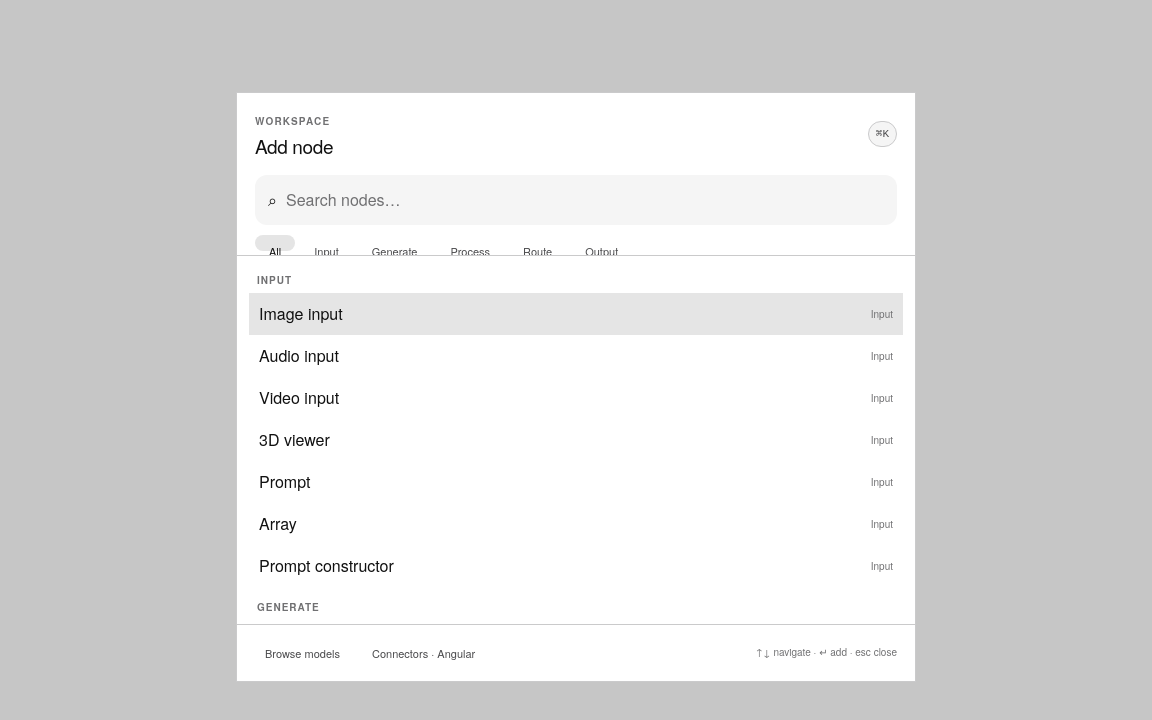
it: AddPalette › filters by category and shows an empty state
Step 1. Click the button "Route" → (538,242), box [509,234,566,250]
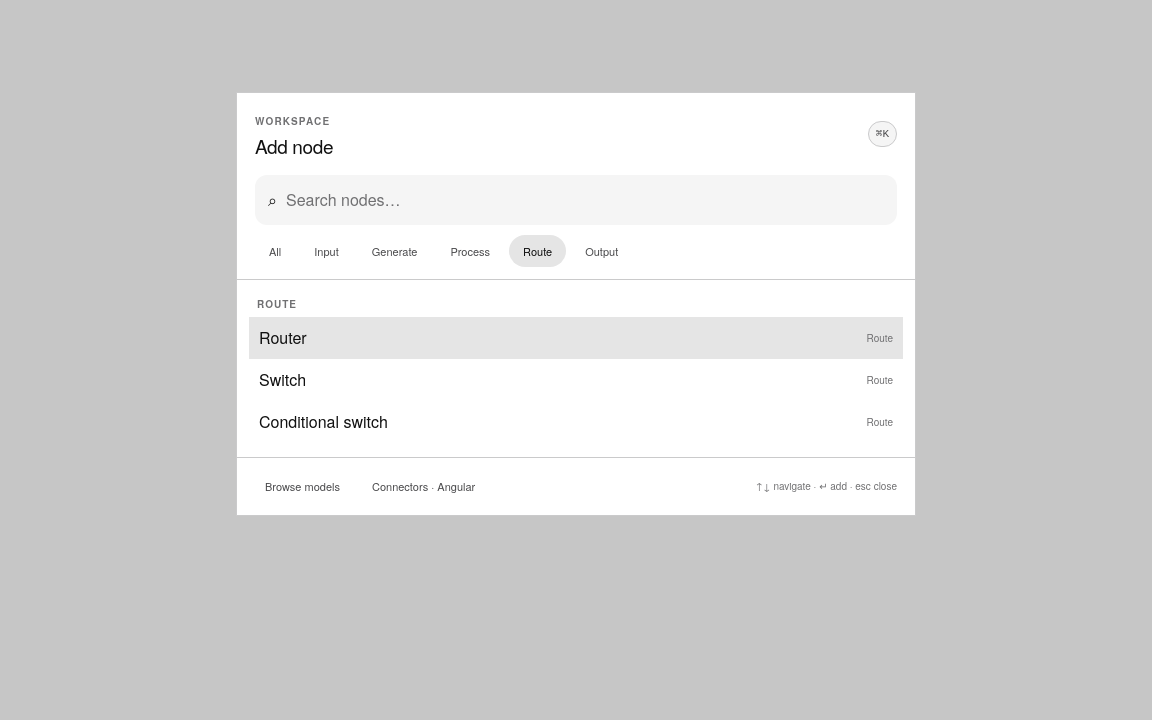
Now the button "Router Route" is shown, box [249,317,903,359]
Now the button "Prompt" is gone
Step 2. Click the button "All" → (275,251), box [255,234,295,267]
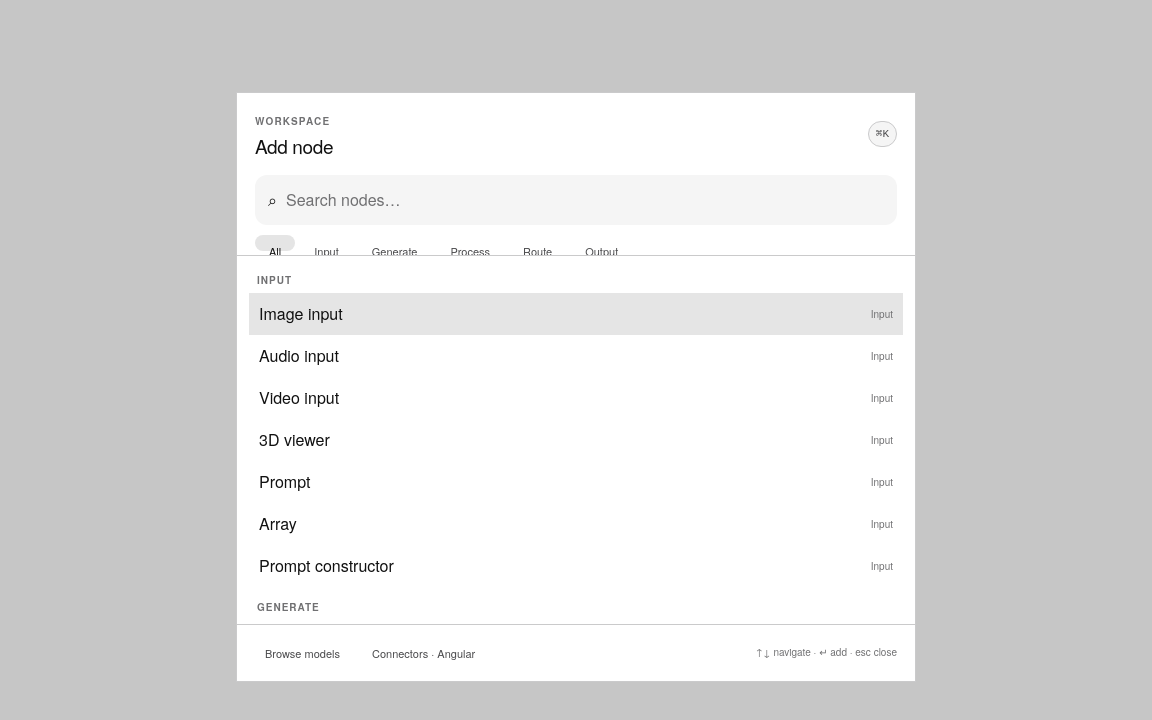
Step 3. Type "no-such-node" into the search field named "Search nodes" → (585,200), box [286,176,884,224]
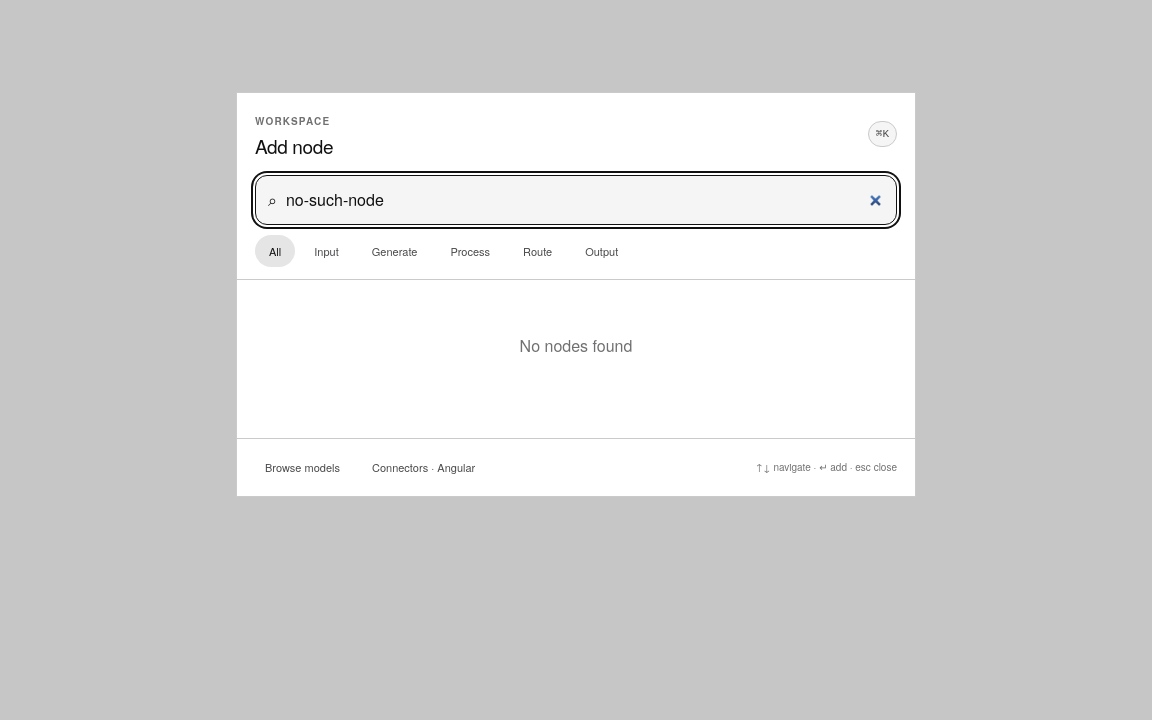
Now the text "No nodes found" is shown, box [520,334,632,357]
